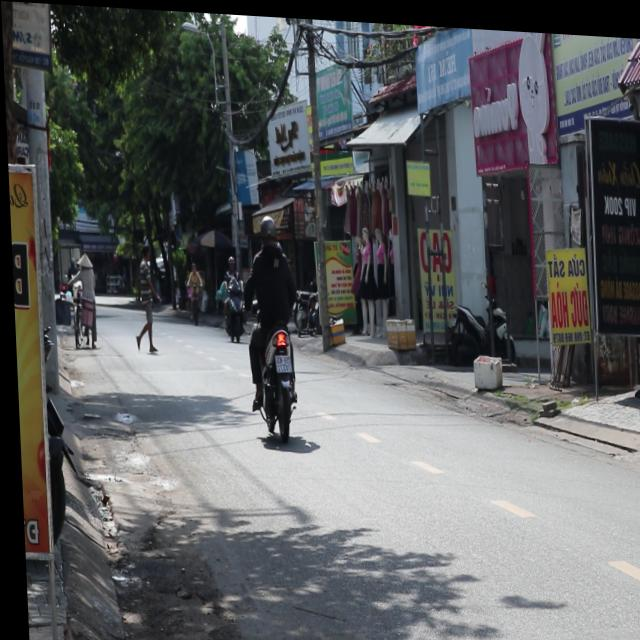helmet: (256, 211, 276, 242)
licenseplate: (238, 208, 301, 438)
nohelmet: (272, 349, 288, 369)
